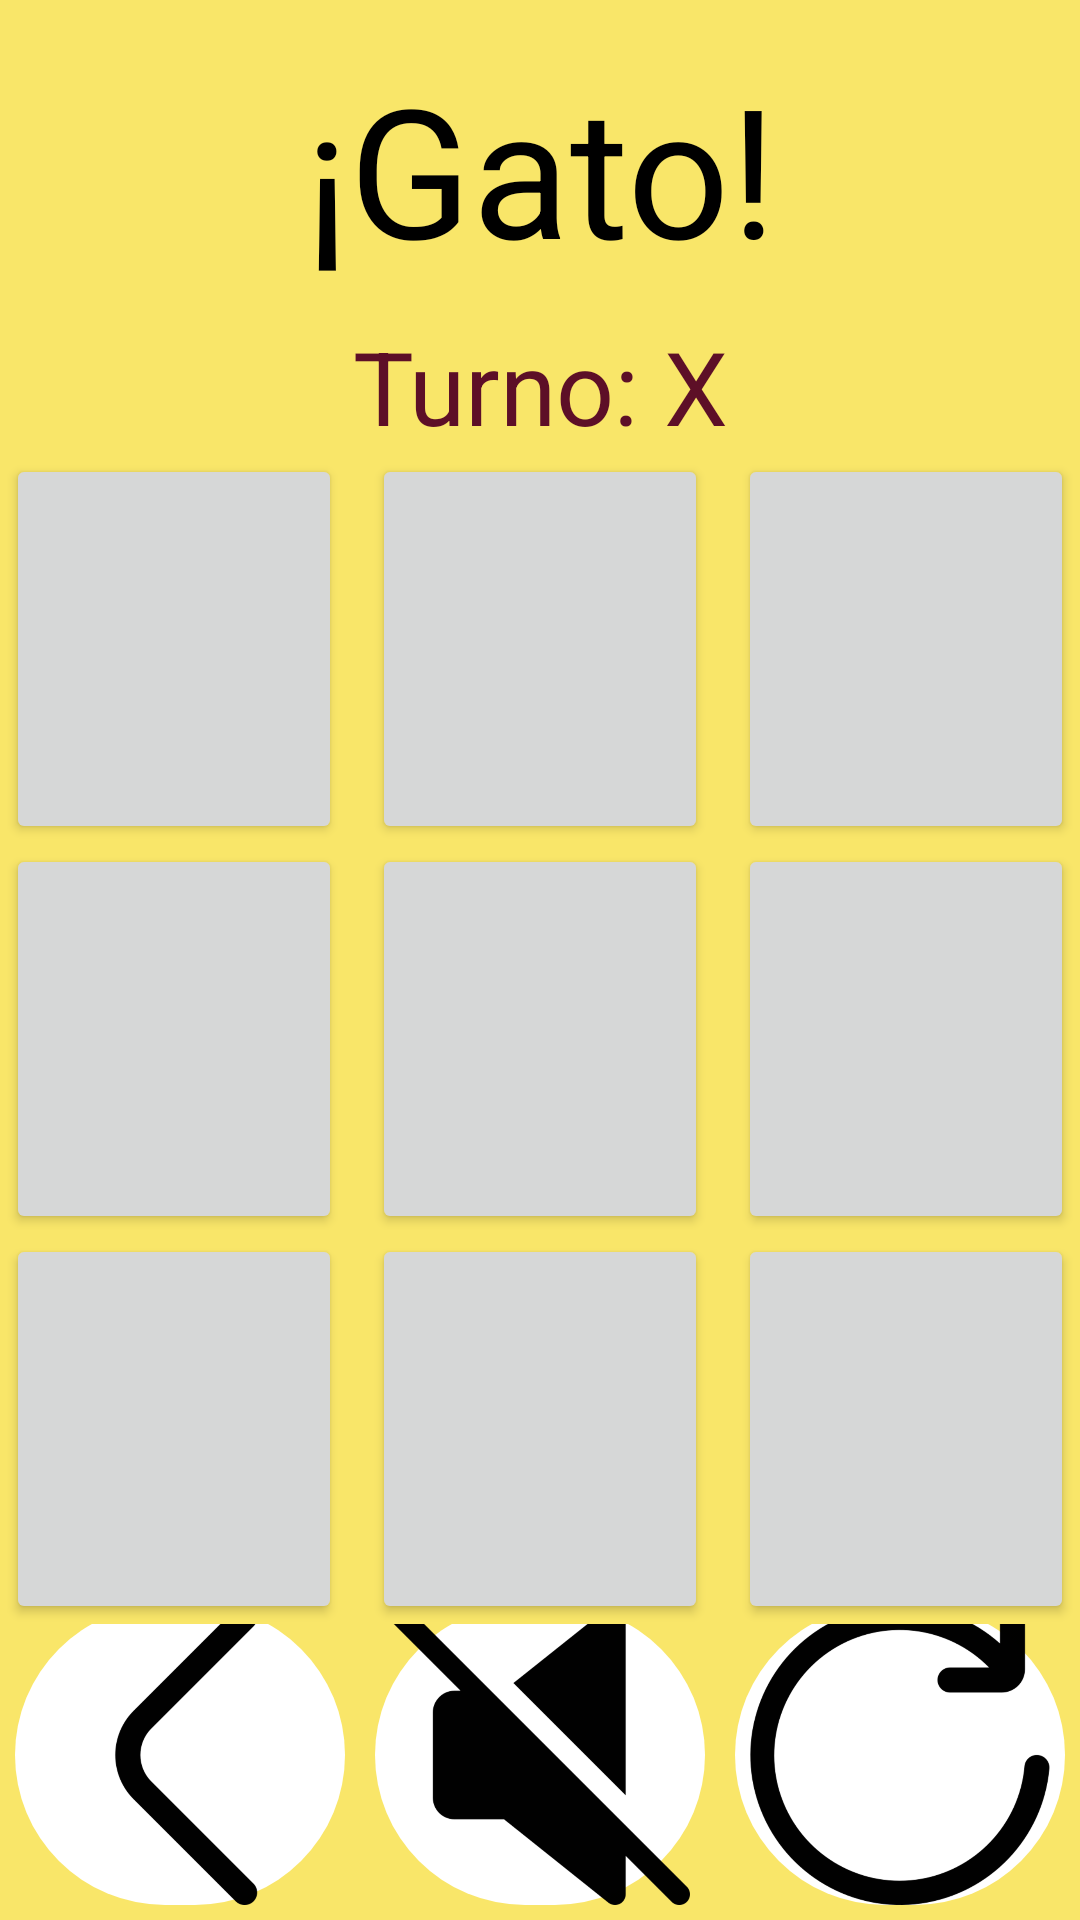

Icon click points for this 1080*1920 phone screenshot, format point (x, y):
angulo la izquierda: point (180, 1764)
gira la derecha: point (900, 1764)
mute: point (540, 1764)
